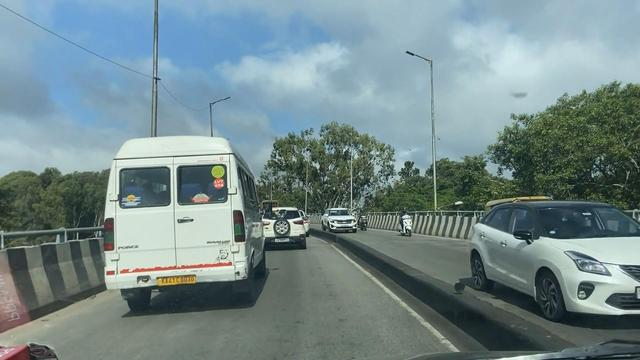HMV: (103, 134, 267, 307)
LMV: (264, 206, 308, 249)
